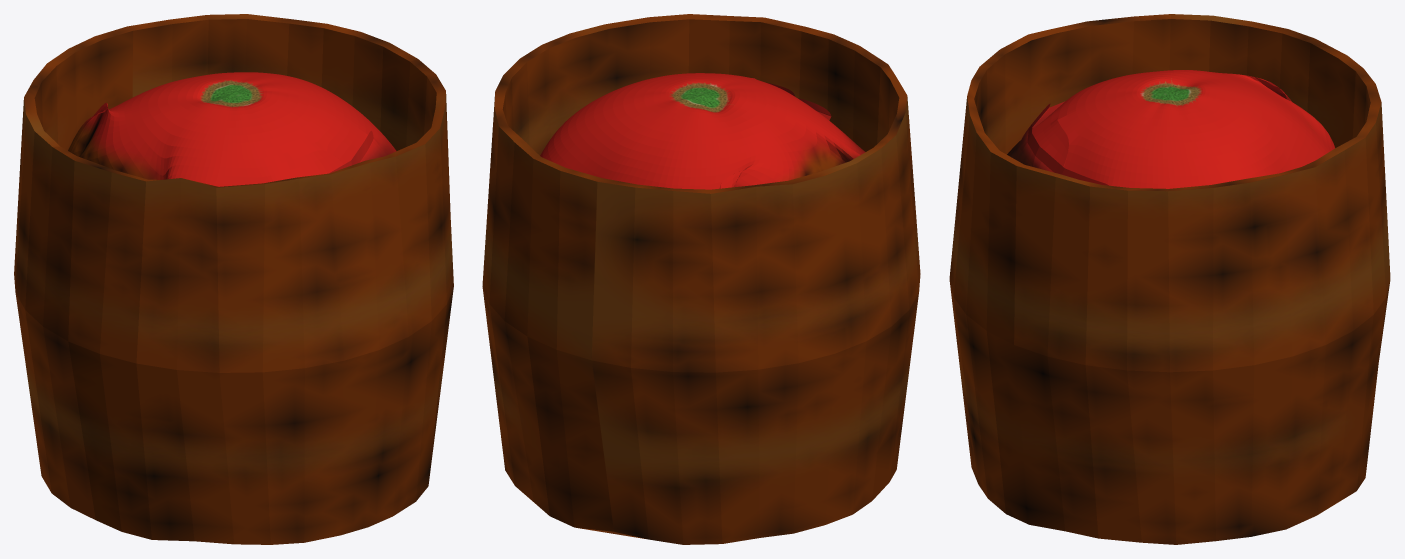
The model's file is トマト串.fbx.
3 views of the same model, side by side, from view 1: azimuth 30°, elevation 25°; view 2: azimuth 150°, elevation 25°; view 3: azimuth 270°, elevation 25° (orthographic).
Visible parts, largest first — view 1: 円柱, 球; view 2: 円柱, 球; view 3: 円柱, 球.
Boxes of the visible parts, bbox=[...] form: 円柱: bbox=[14, 14, 453, 544]; 球: bbox=[68, 72, 396, 186]; 円柱: bbox=[482, 14, 920, 544]; 球: bbox=[540, 73, 865, 189]; 円柱: bbox=[949, 14, 1390, 544]; 球: bbox=[1007, 70, 1334, 188].
Size of the model in its own units: 200 by 188 by 200.
Materials: 2 (2 with a texture image).
